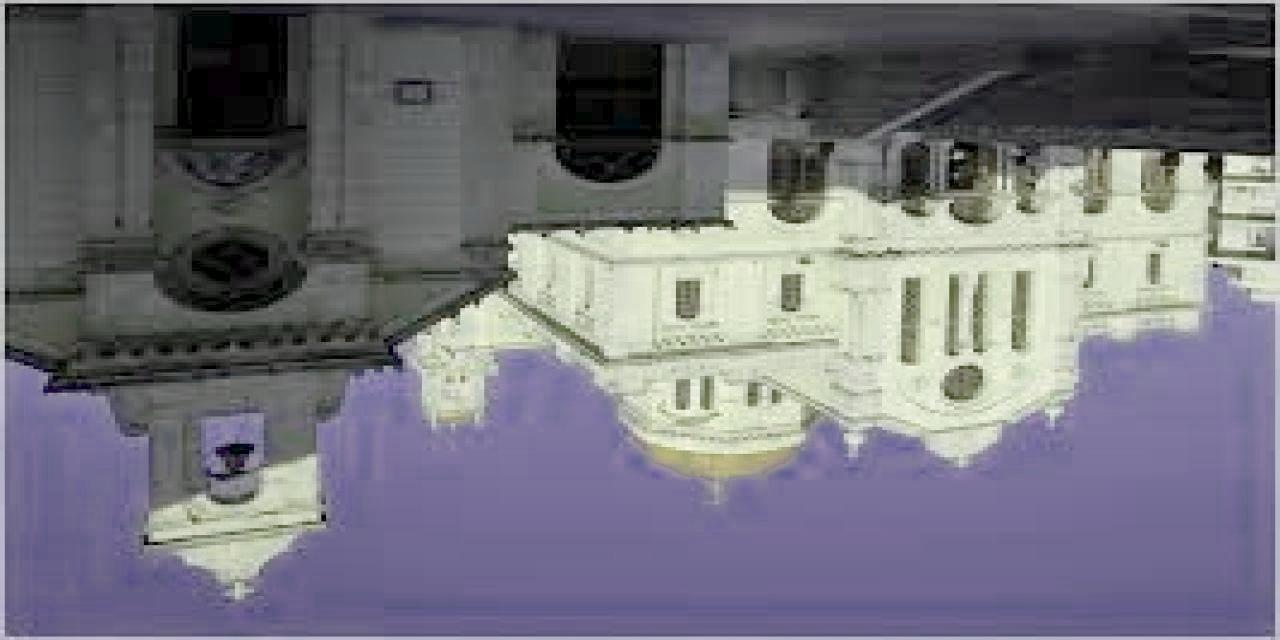Agios Minas: (5, 30, 1280, 608)
